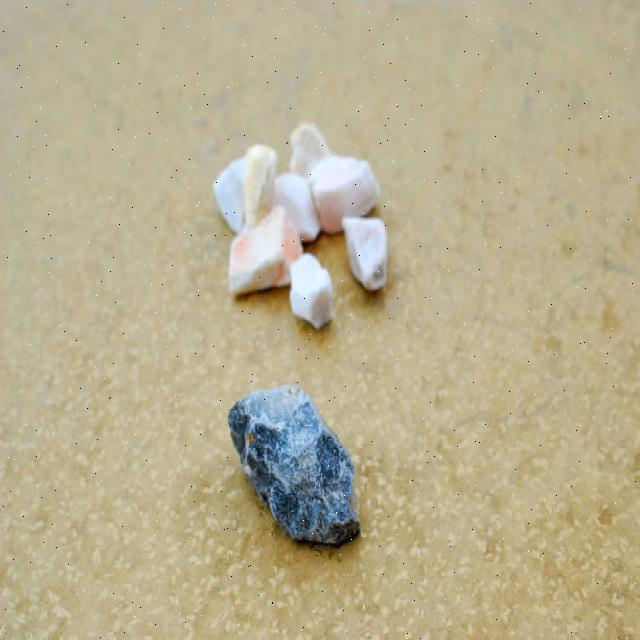Sedimentary: (195, 116, 392, 337), (221, 378, 369, 552)
